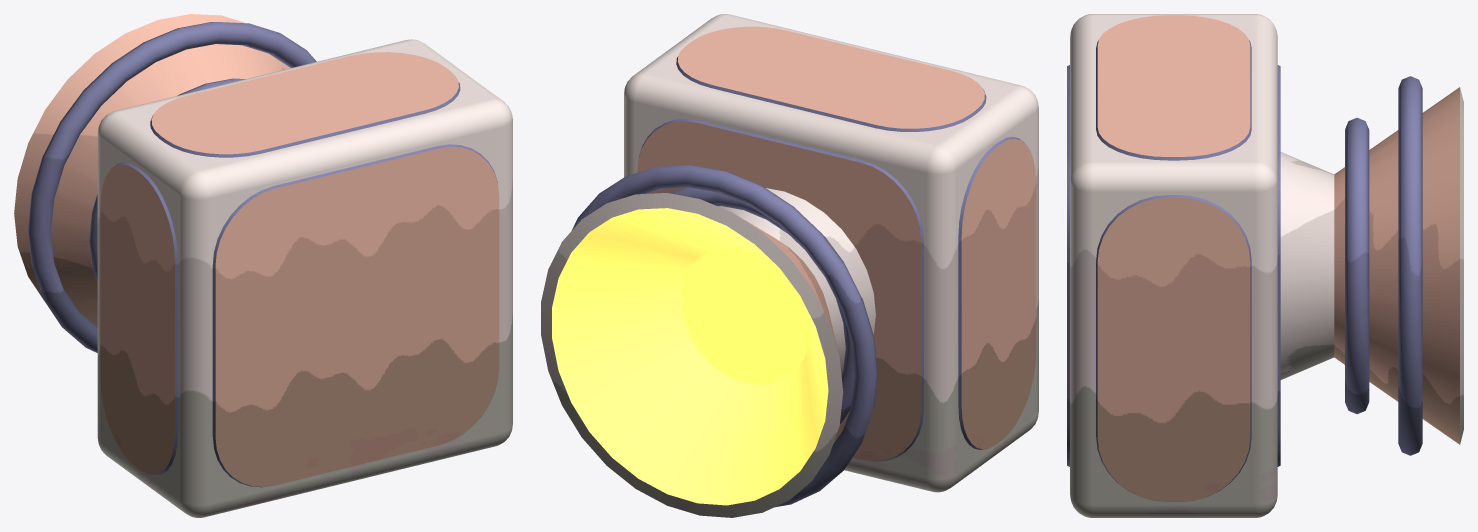
File: R4X_Booster.glb
3 views of the same model, side by side, from view 1: azimuth 30°, elevation 25°; view 2: azimuth 150°, elevation 25°; view 3: azimuth 270°, elevation 25° (orthographic). The views are drawn at different scales.
Visible parts, largest first — view 1: R4X_Booster_Body; view 2: R4X_Booster_Body; view 3: R4X_Booster_Body.
Boxes of the visible parts, left/top/right/bottom form: R4X_Booster_Body: left=14, top=14, right=512, bottom=517; R4X_Booster_Body: left=541, top=14, right=1038, bottom=517; R4X_Booster_Body: left=1067, top=14, right=1463, bottom=517.
Size of the model in its own units: 0.52 by 0.52 by 0.52.
Materials: 4 (3 with a texture image).
